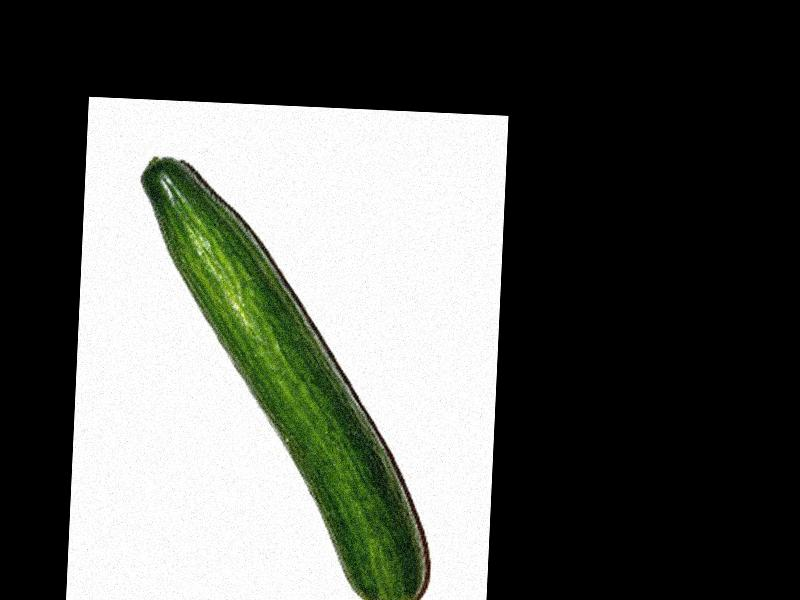Cucumber: (122, 156, 447, 600)
